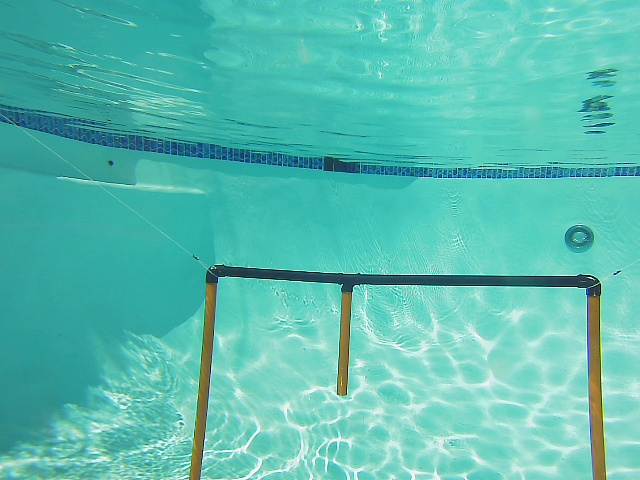Gate: (185, 278, 225, 480), (586, 291, 610, 480), (332, 283, 353, 406)
